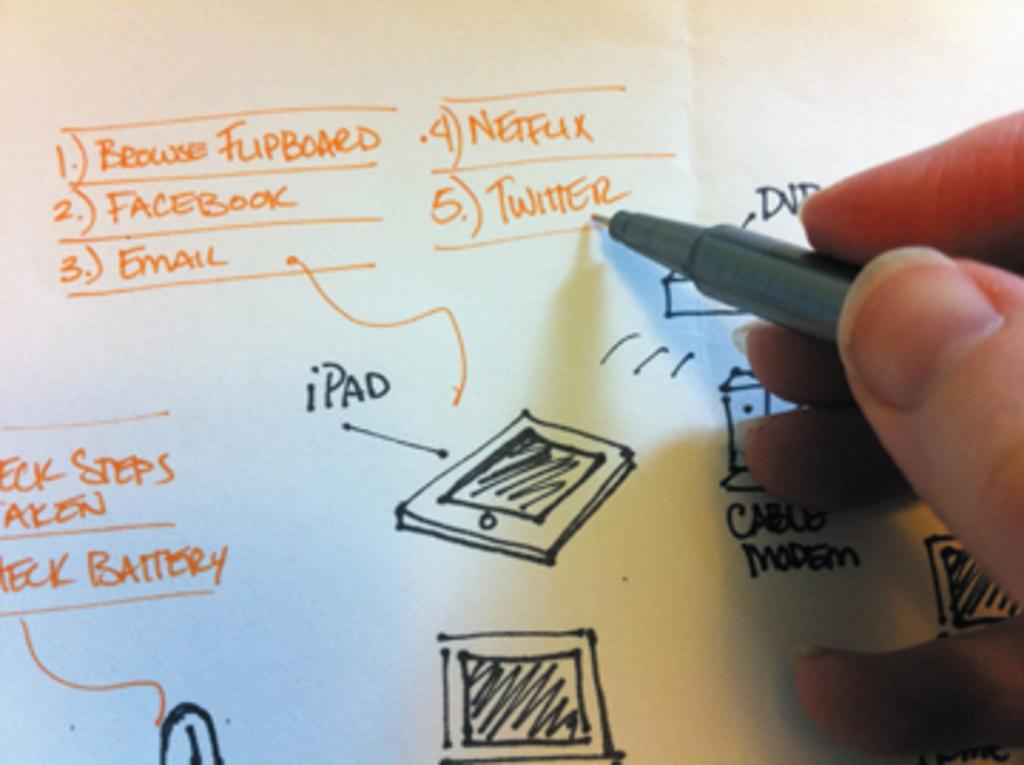pen: (577, 210, 1021, 358)
